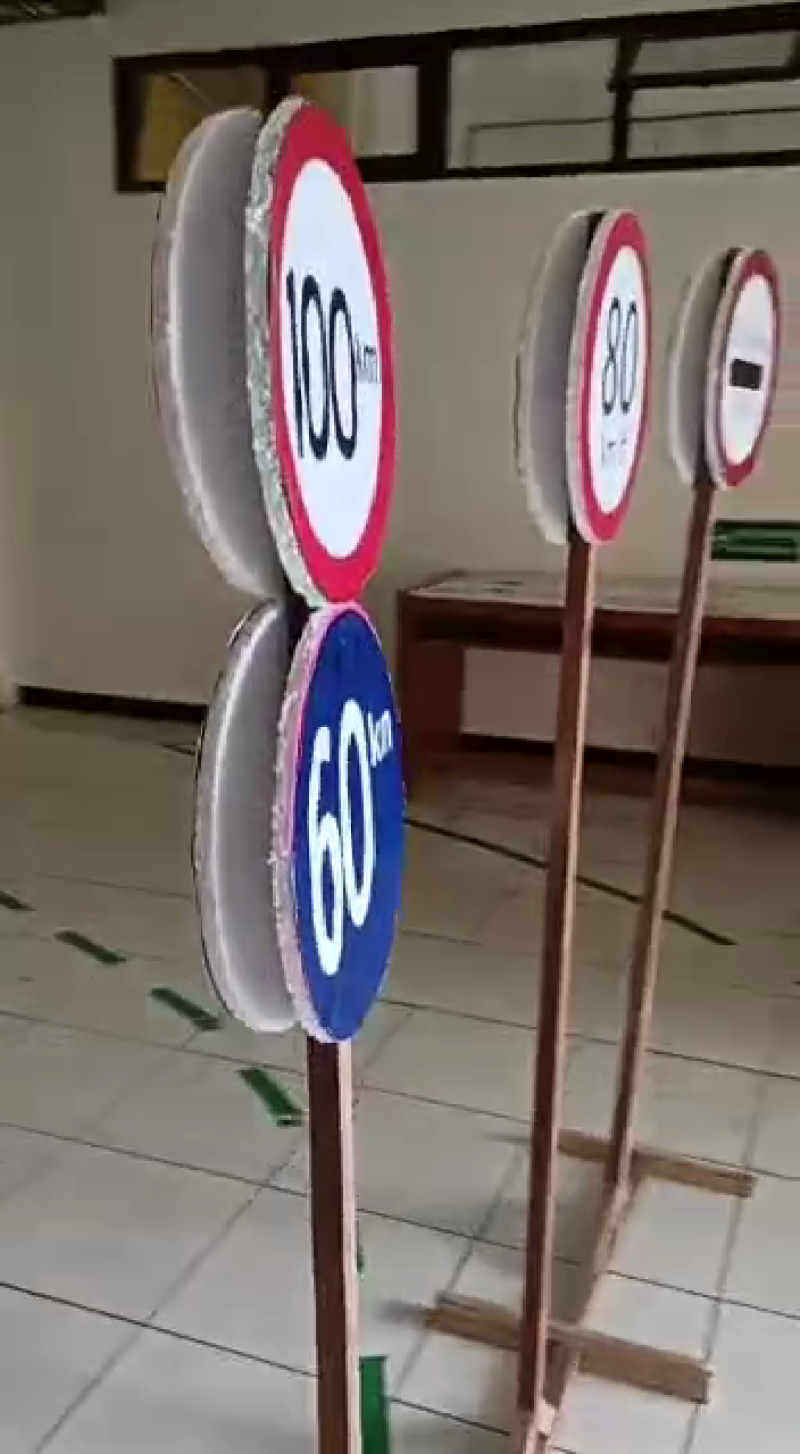batas maksimal 100kmperjam minimal 60kmperjam: (226, 87, 426, 1061)
batas maksimal 80kmperjam: (561, 201, 648, 546)
